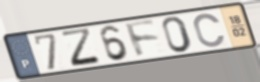0: (161, 16, 194, 54)
6: (99, 24, 130, 63)
7: (31, 32, 59, 72)
C: (192, 12, 227, 49)
F: (122, 19, 162, 60)
Z: (59, 26, 105, 69)
